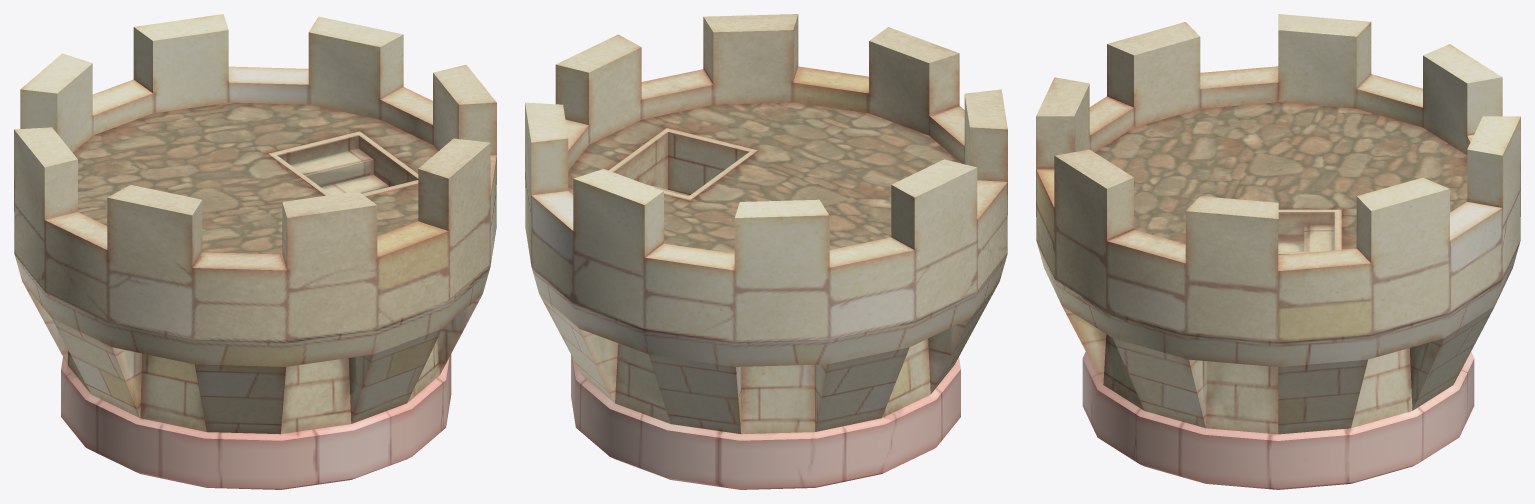
Rendered from sb_obj_outdoor024_PrincessCastle01_CircleWallTop02.fbx.
3 views of the same model, side by side, from view 1: azimuth 30°, elevation 25°; view 2: azimuth 150°, elevation 25°; view 3: azimuth 270°, elevation 25° (orthographic).
Parts seen in each view (by area): view 1: sb_obj_outdoor024_PrincessCastle01_CircleWallTop02; view 2: sb_obj_outdoor024_PrincessCastle01_CircleWallTop02; view 3: sb_obj_outdoor024_PrincessCastle01_CircleWallTop02.
Part boxes in pixels (bbox=[...]): sb_obj_outdoor024_PrincessCastle01_CircleWallTop02: bbox=[14, 14, 496, 489]; sb_obj_outdoor024_PrincessCastle01_CircleWallTop02: bbox=[525, 14, 1007, 489]; sb_obj_outdoor024_PrincessCastle01_CircleWallTop02: bbox=[1036, 14, 1520, 489].
Size of the model in its own units: 3.83 by 2.55 by 3.83.
